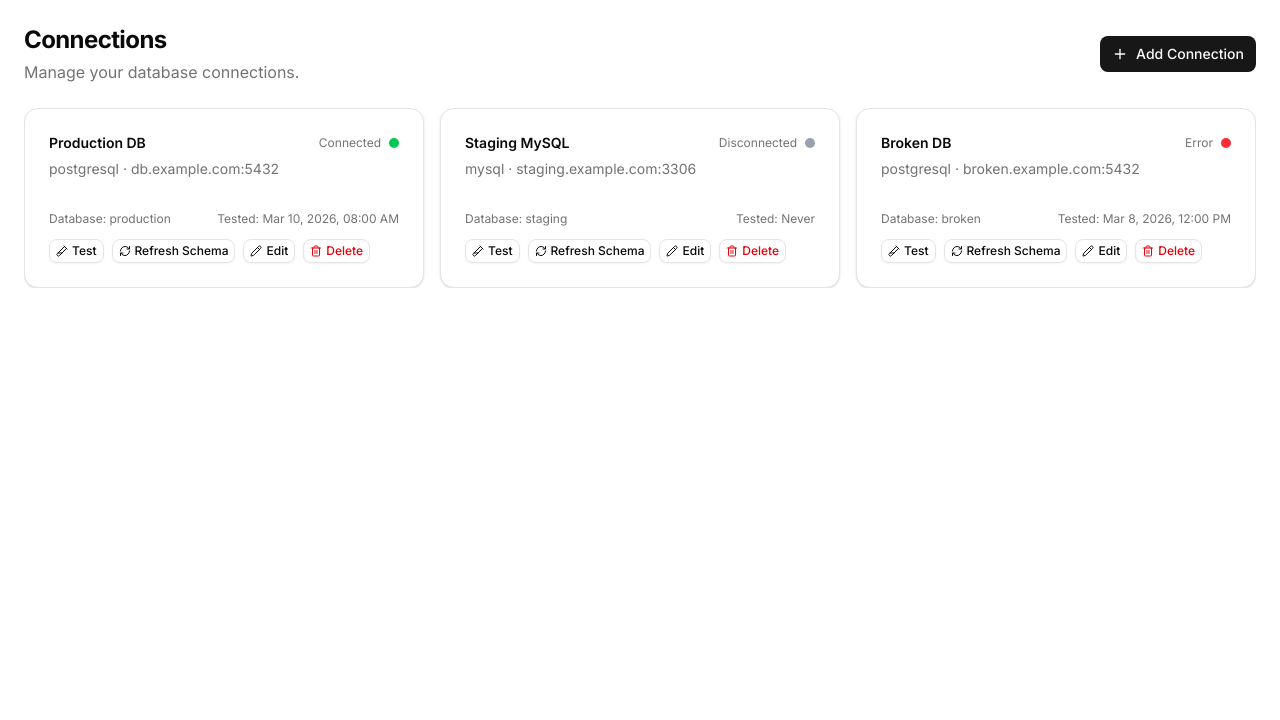
Test: ConnectionsPage › action buttons › shows delete confirmation dialog when delete is clicked
Click the button with test id "delete-button" at (337, 251), box [303,239,370,263]
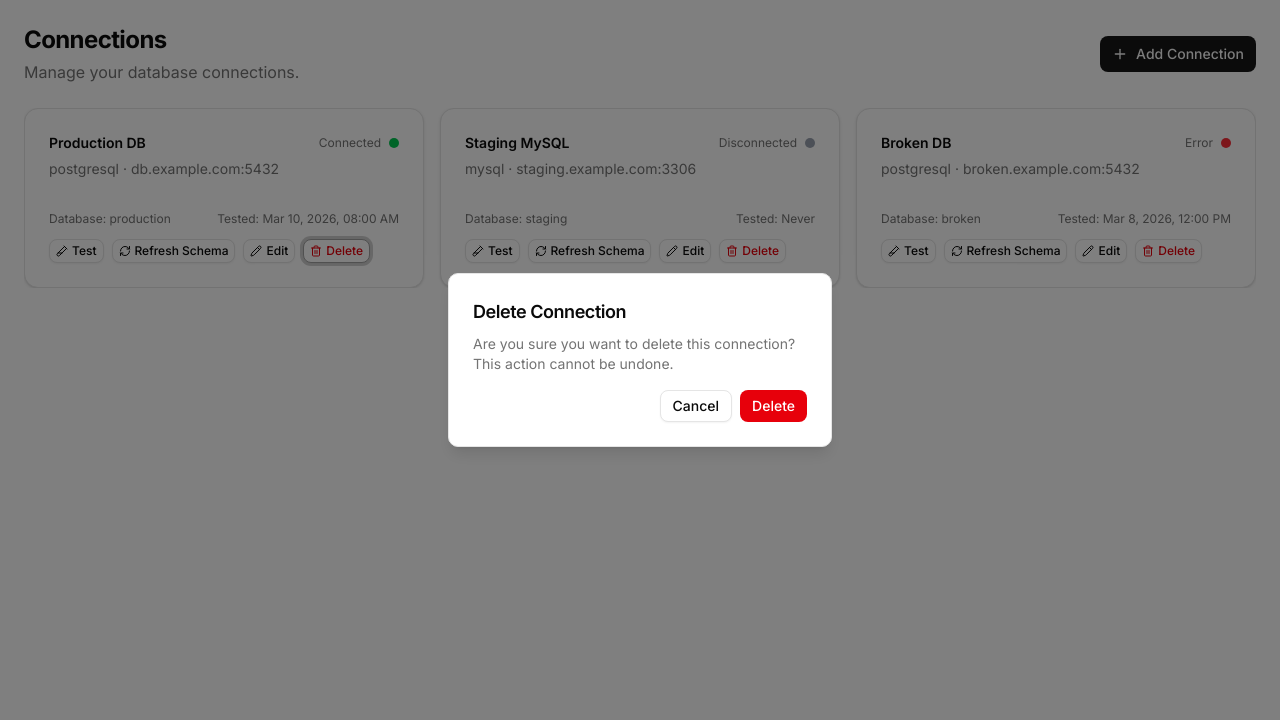
Check: the element with test id "delete-confirmation" is shown
Check: the text "Are you sure you want to delete this connection? This action cannot be undone." is shown, box [473,334,807,374]
